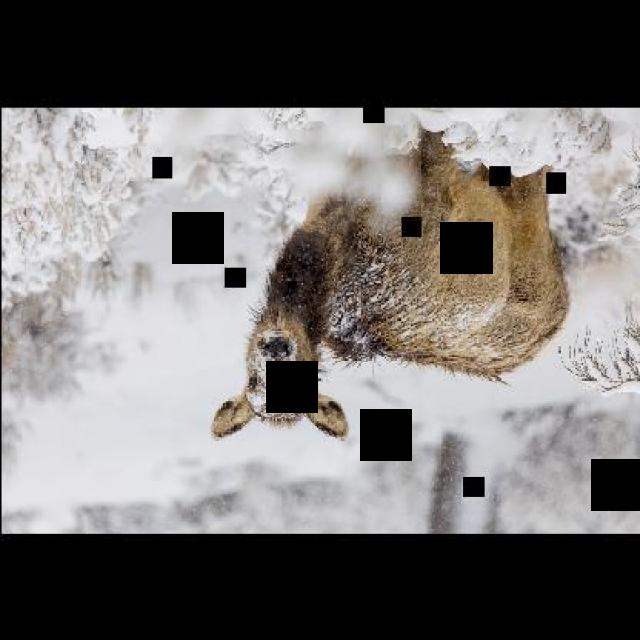unauthorized: (209, 122, 571, 440)
